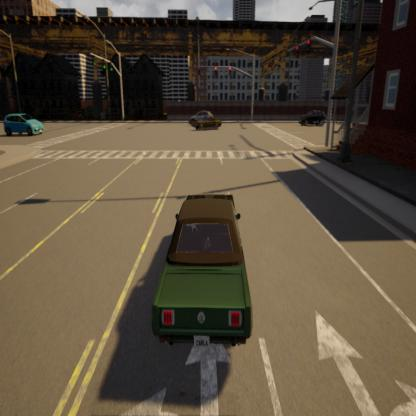Cars: (140, 164, 264, 366), (0, 92, 58, 154), (186, 103, 235, 154), (293, 90, 330, 138)
